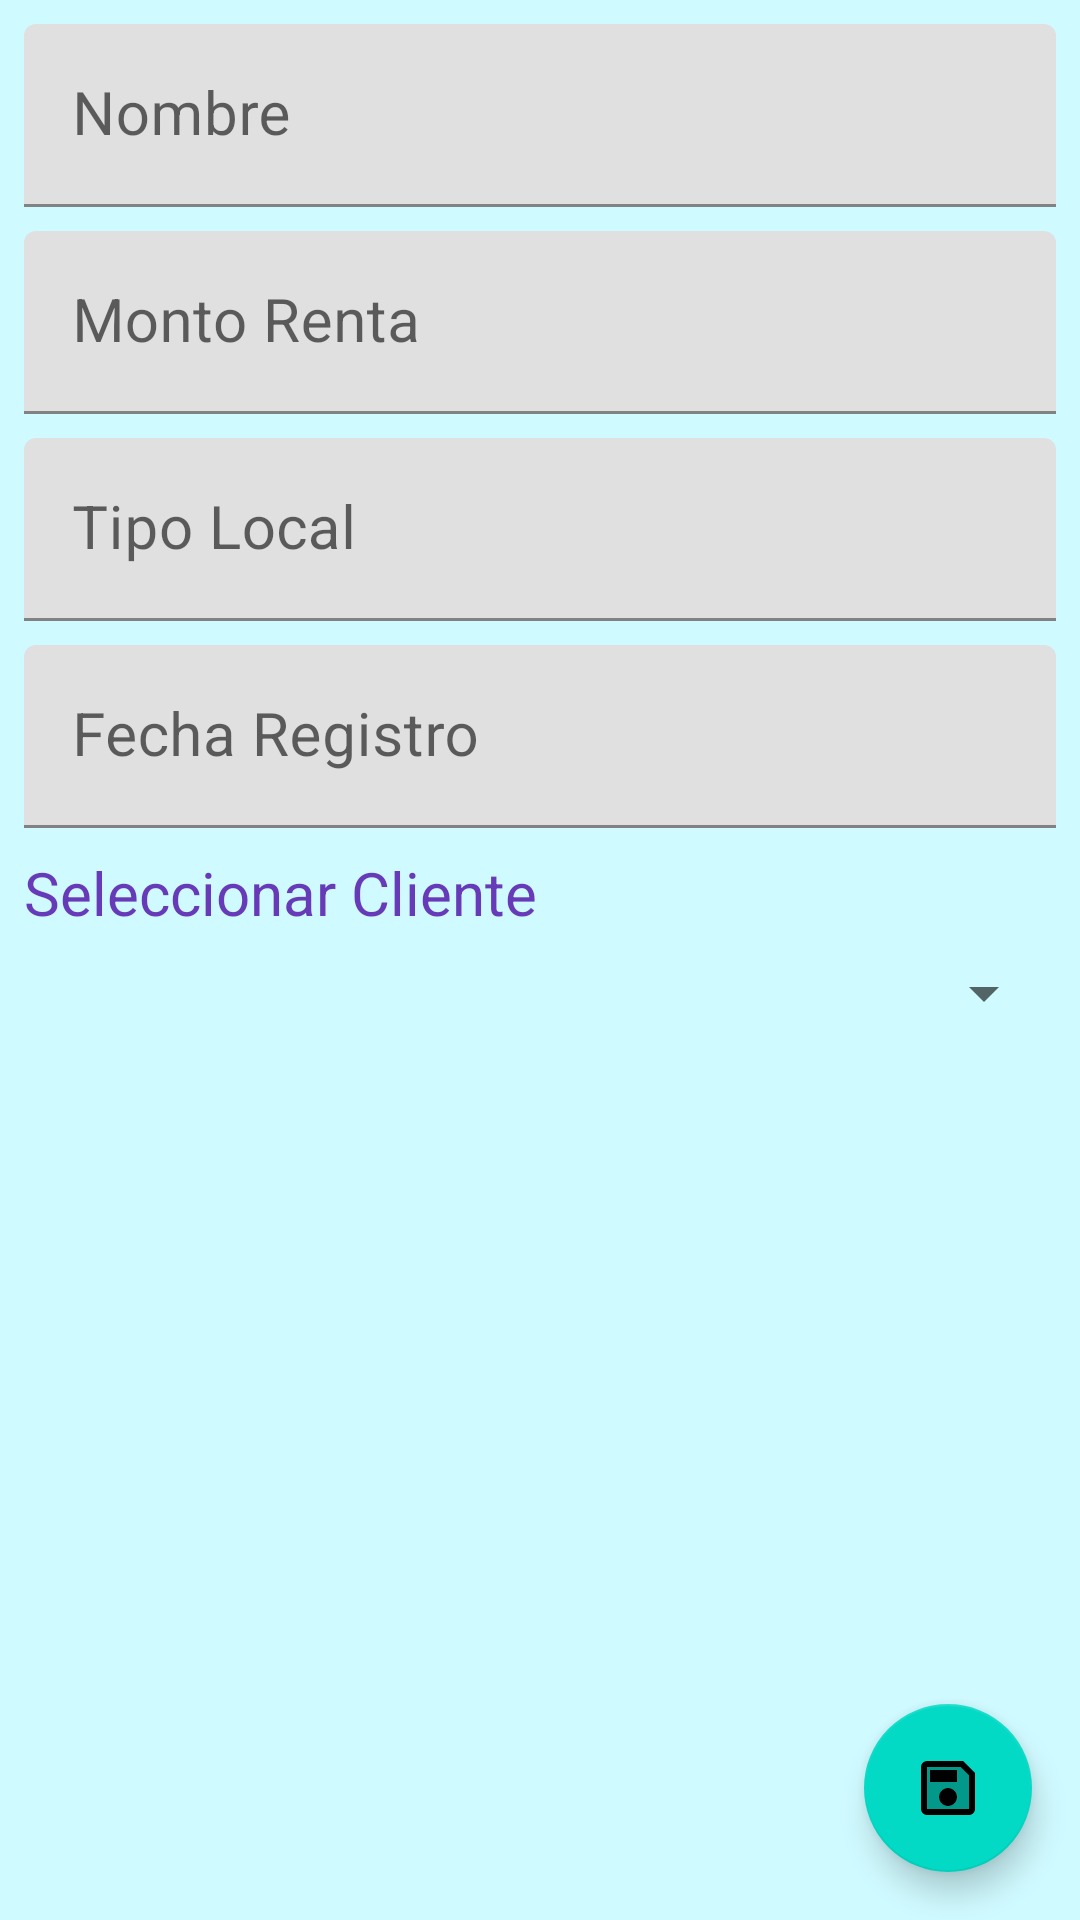

Locate icon controls on the screen. Image size 1080px x 1920px, boxes as (x1, y1, x2, y2).
guardar: (864, 1704, 1032, 1872)
